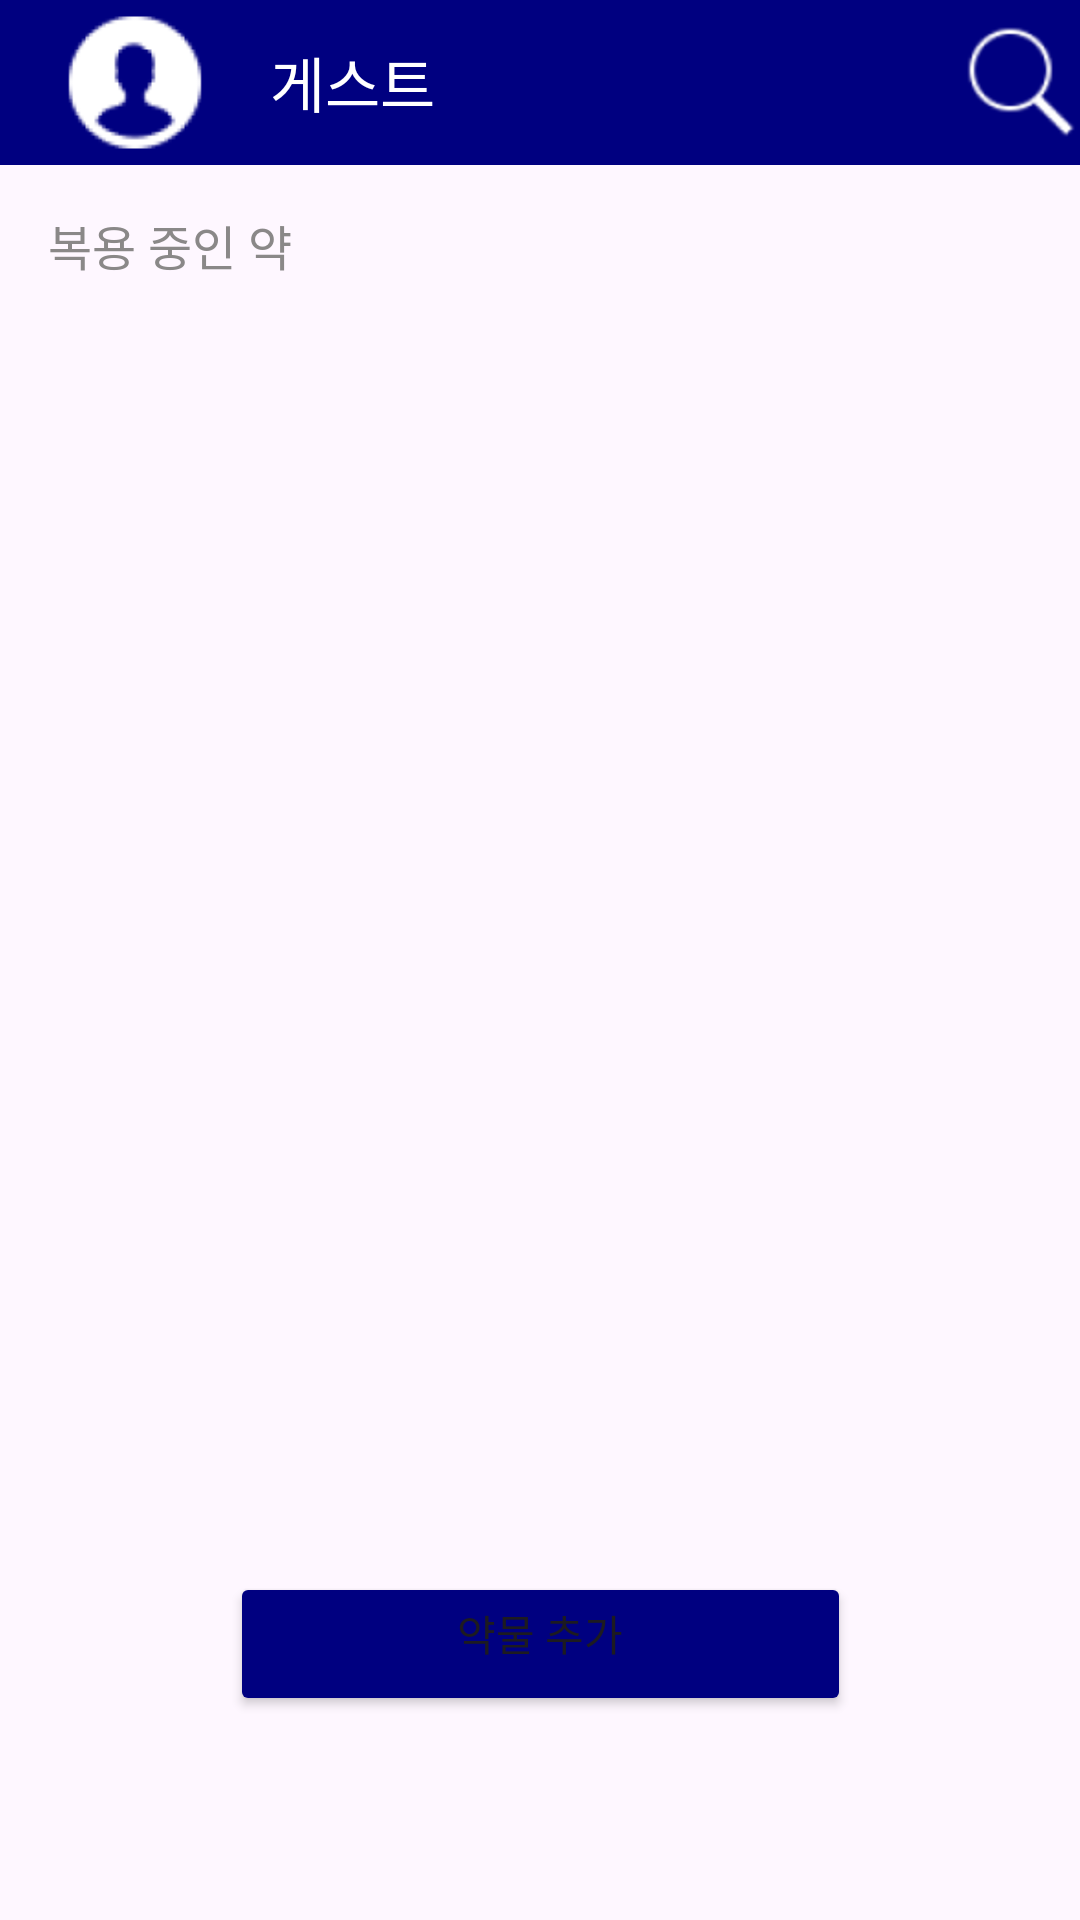

Screen size 1080x1920. Icon name, then its box in pixels as rect(x1, y1, x2, y2):
guest: rect(68, 16, 202, 149)
search: rect(968, 28, 1074, 136)
